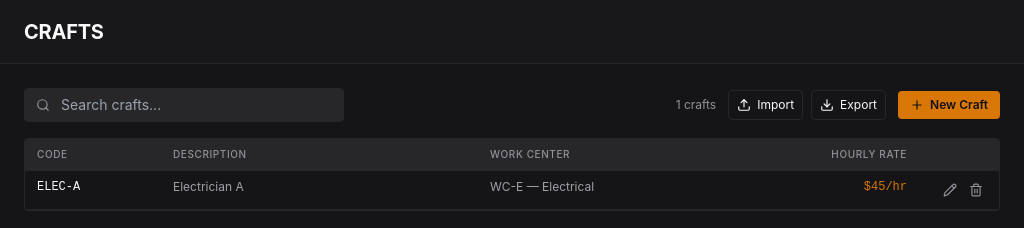
Scenario: CraftsPage craft CRUD (tracker v1.1-15) › deletes a craft
Click the button named "delete elec-a". click: (976, 190)
box: top-left (965, 179), bottom-right (987, 201)
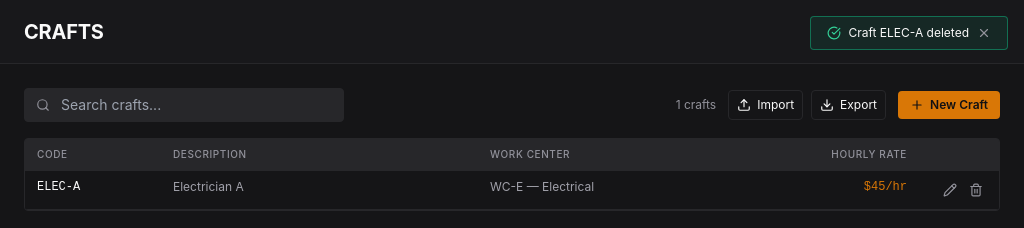
Expected: the text "Craft ELEC-A deleted" is shown, top-left (848, 25), bottom-right (969, 41)
